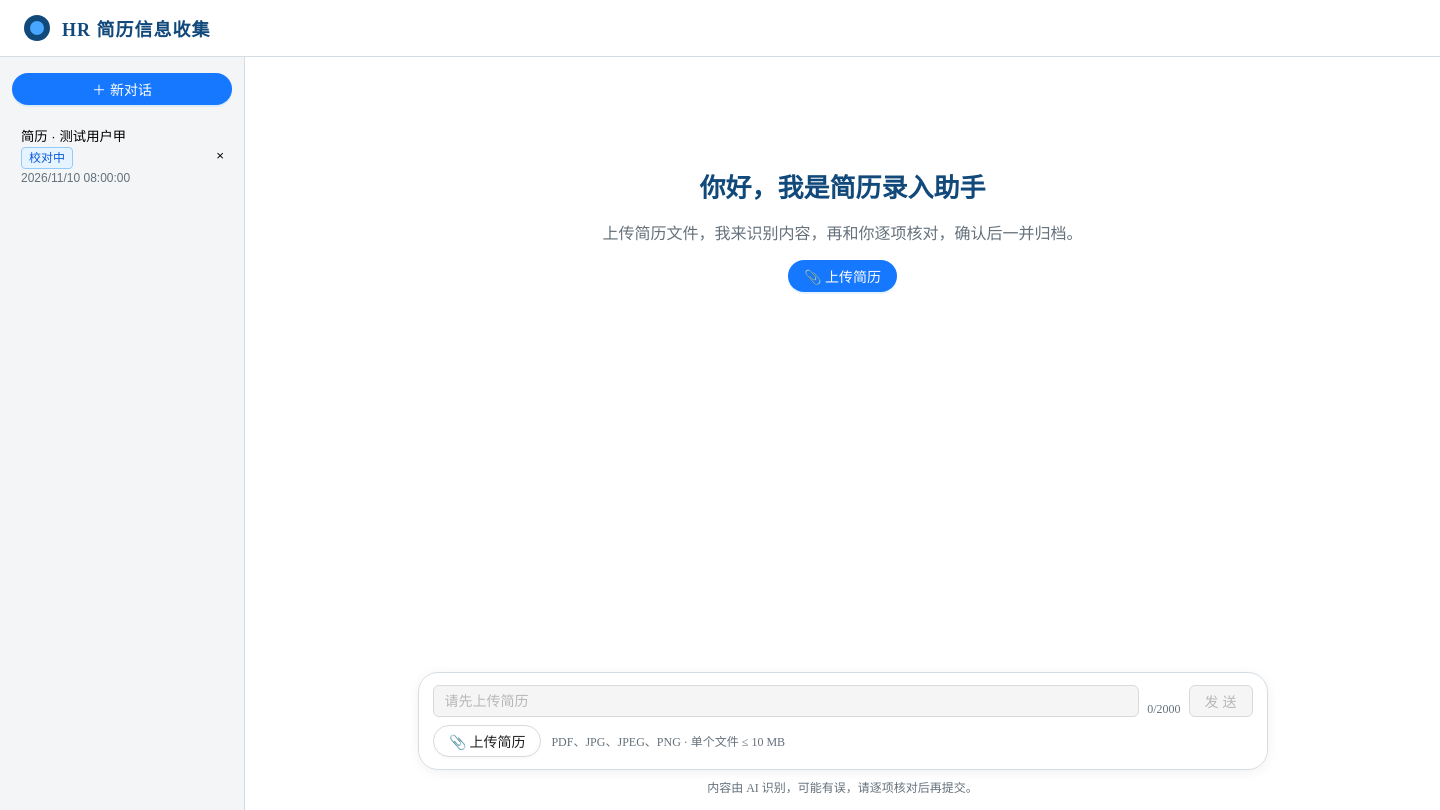
F-03: "已保存" only after a confirmed save (HIGH_RISK, deterministic) › saves with exactly {confirmed: true}, once per click, then shows the saved card from the re-read session
Later steps or results of the test are not shown.
Step 1. Click the button "简历 · 测试用户甲 校对中 2026/11/10 08:00:00" → click(108, 156), box [12,117,204,194]
(page scrolled)
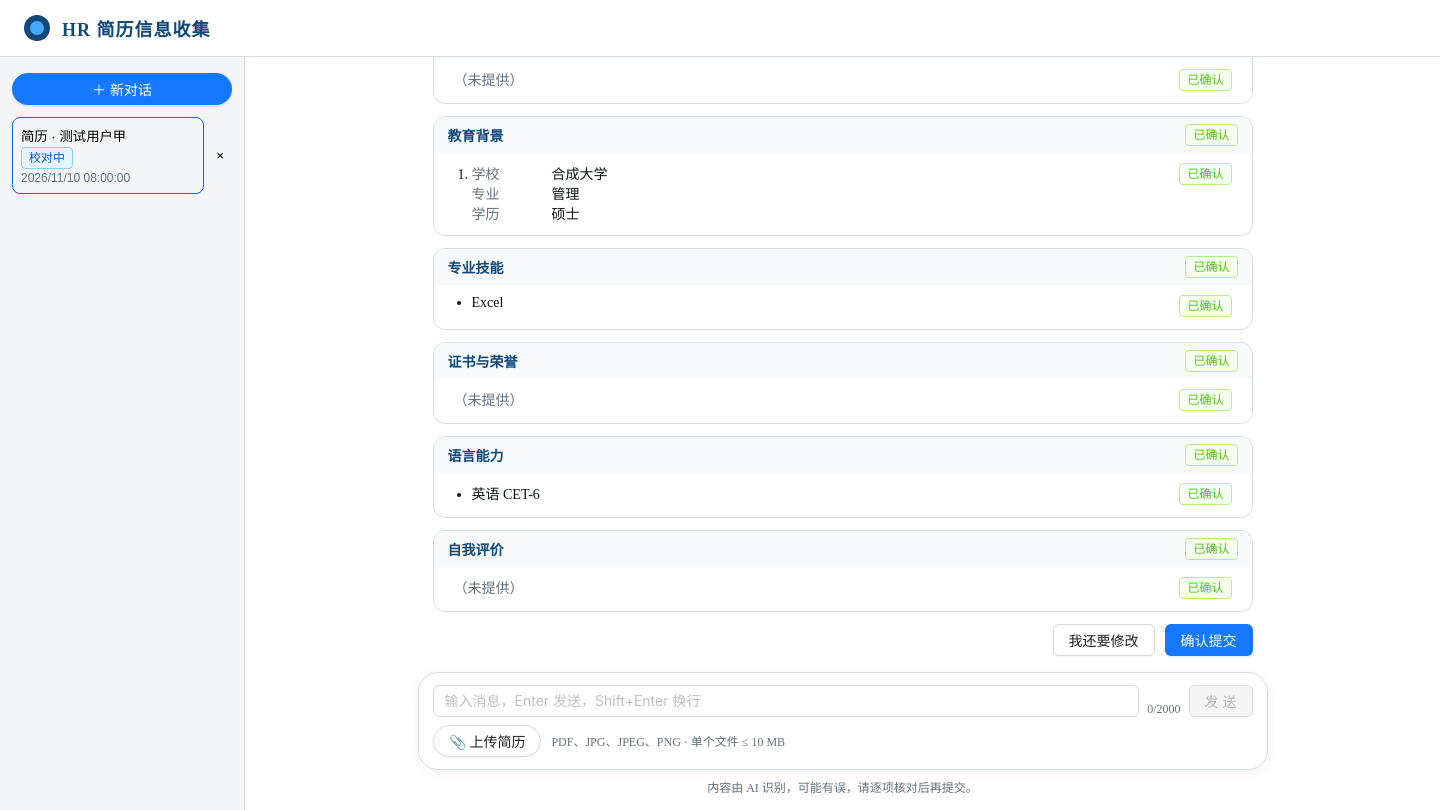
Step 2. Click the button "确认提交" → click(1208, 640), box [1164,624,1252,656]
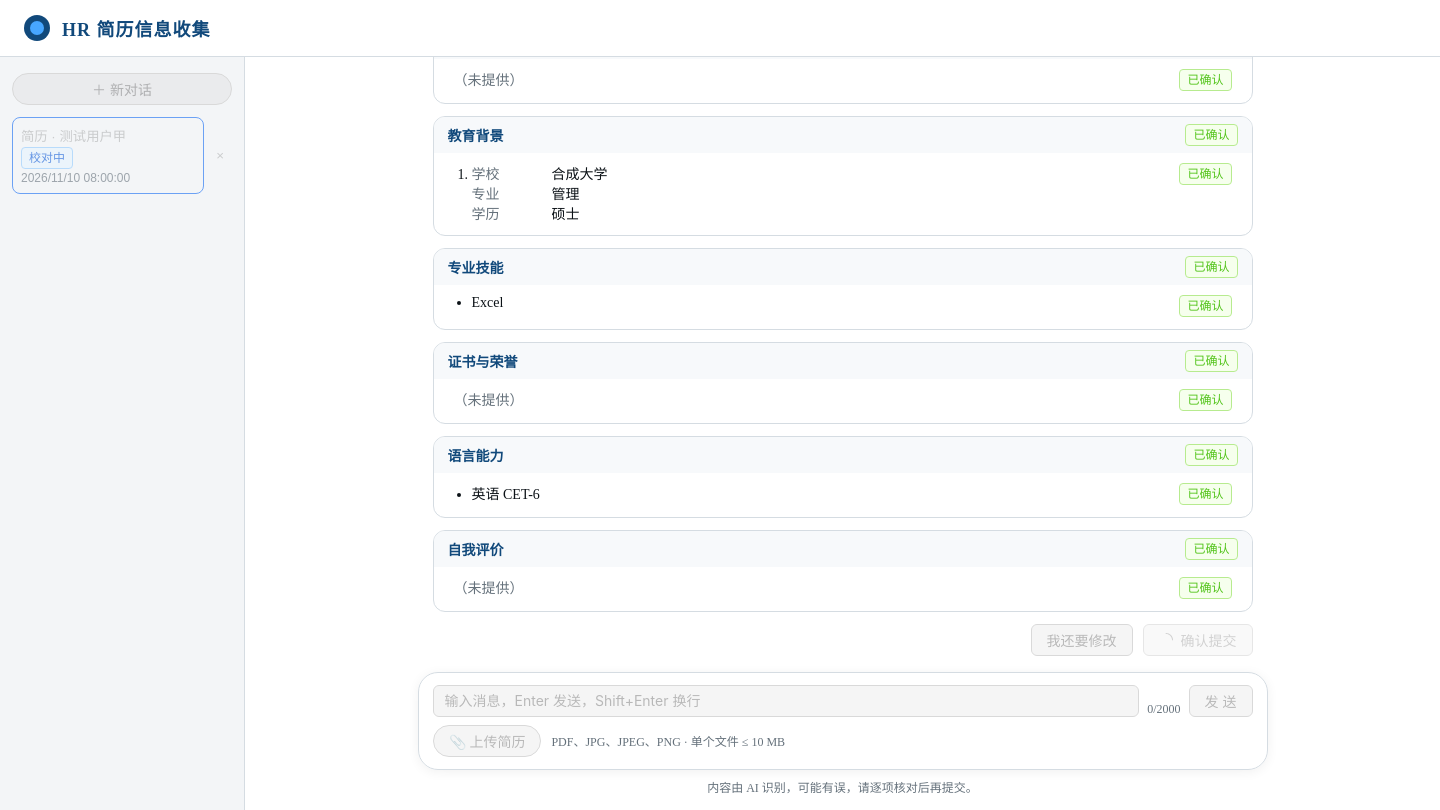
Step 3. Click the button "确认提交" → click(1198, 640), box [1142,624,1252,656]
Step 4. Click the button "确认提交" → click(1198, 640), box [1142,624,1252,656]
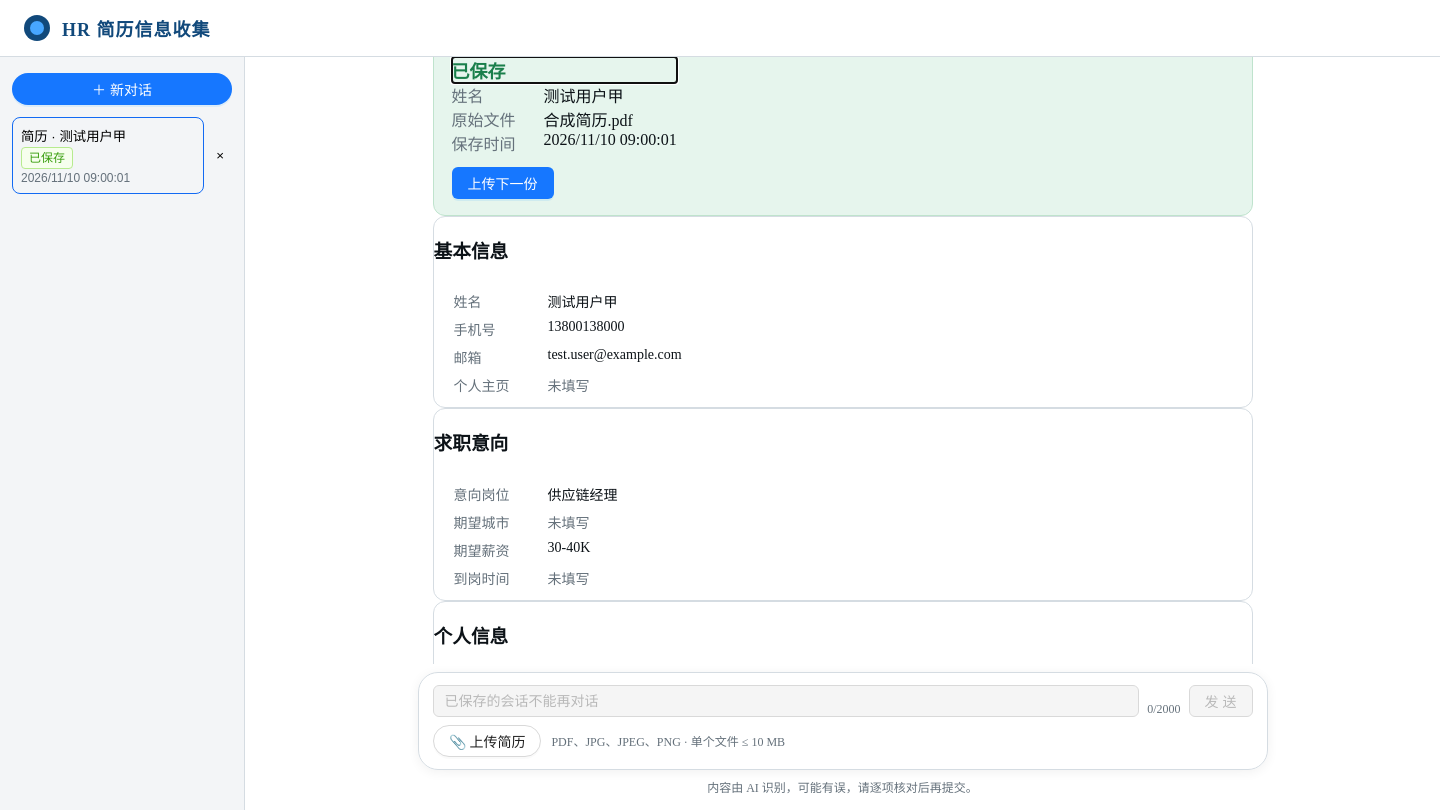
Expected: the 1st text "测试用户甲" is shown, [544,83,624,107]
